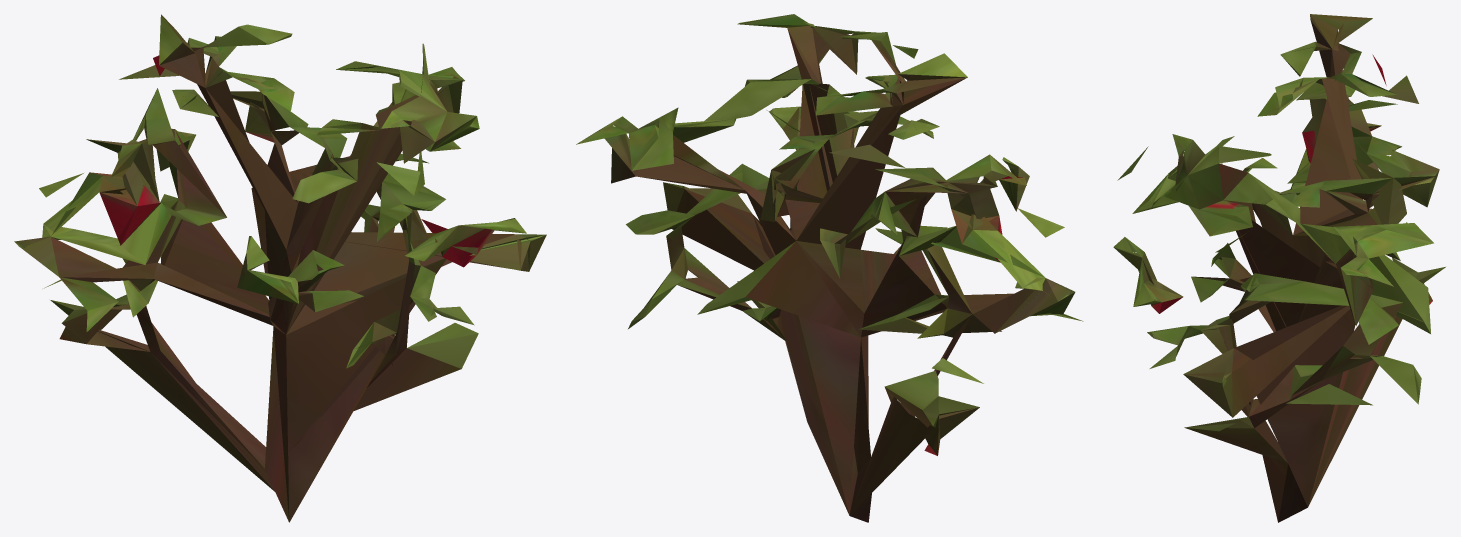
Rendered from bg_forest_bush_1_lod0.glb.
3 renders of one model, left to right at view 1: azimuth 30°, elevation 25°; view 2: azimuth 150°, elevation 25°; view 3: azimuth 270°, elevation 25°, orthographic. The views are drawn at different scales.
Visible parts, largest first — view 1: body, sway; view 2: body, sway; view 3: body, sway.
Boxes of the visible parts, x1=… form: body: x1=51, y1=32, x2=546, y2=522; sway: x1=14, y1=14, x2=545, y2=368; body: x1=598, y1=25, x2=1057, y2=522; sway: x1=576, y1=14, x2=1083, y2=427; body: x1=1144, y1=14, x2=1435, y2=522; sway: x1=1113, y1=14, x2=1445, y2=431.
Bounding box in the file's own units: 1.24 × 1.27 × 0.8176.
Materials: 1 (1 with a texture image).
